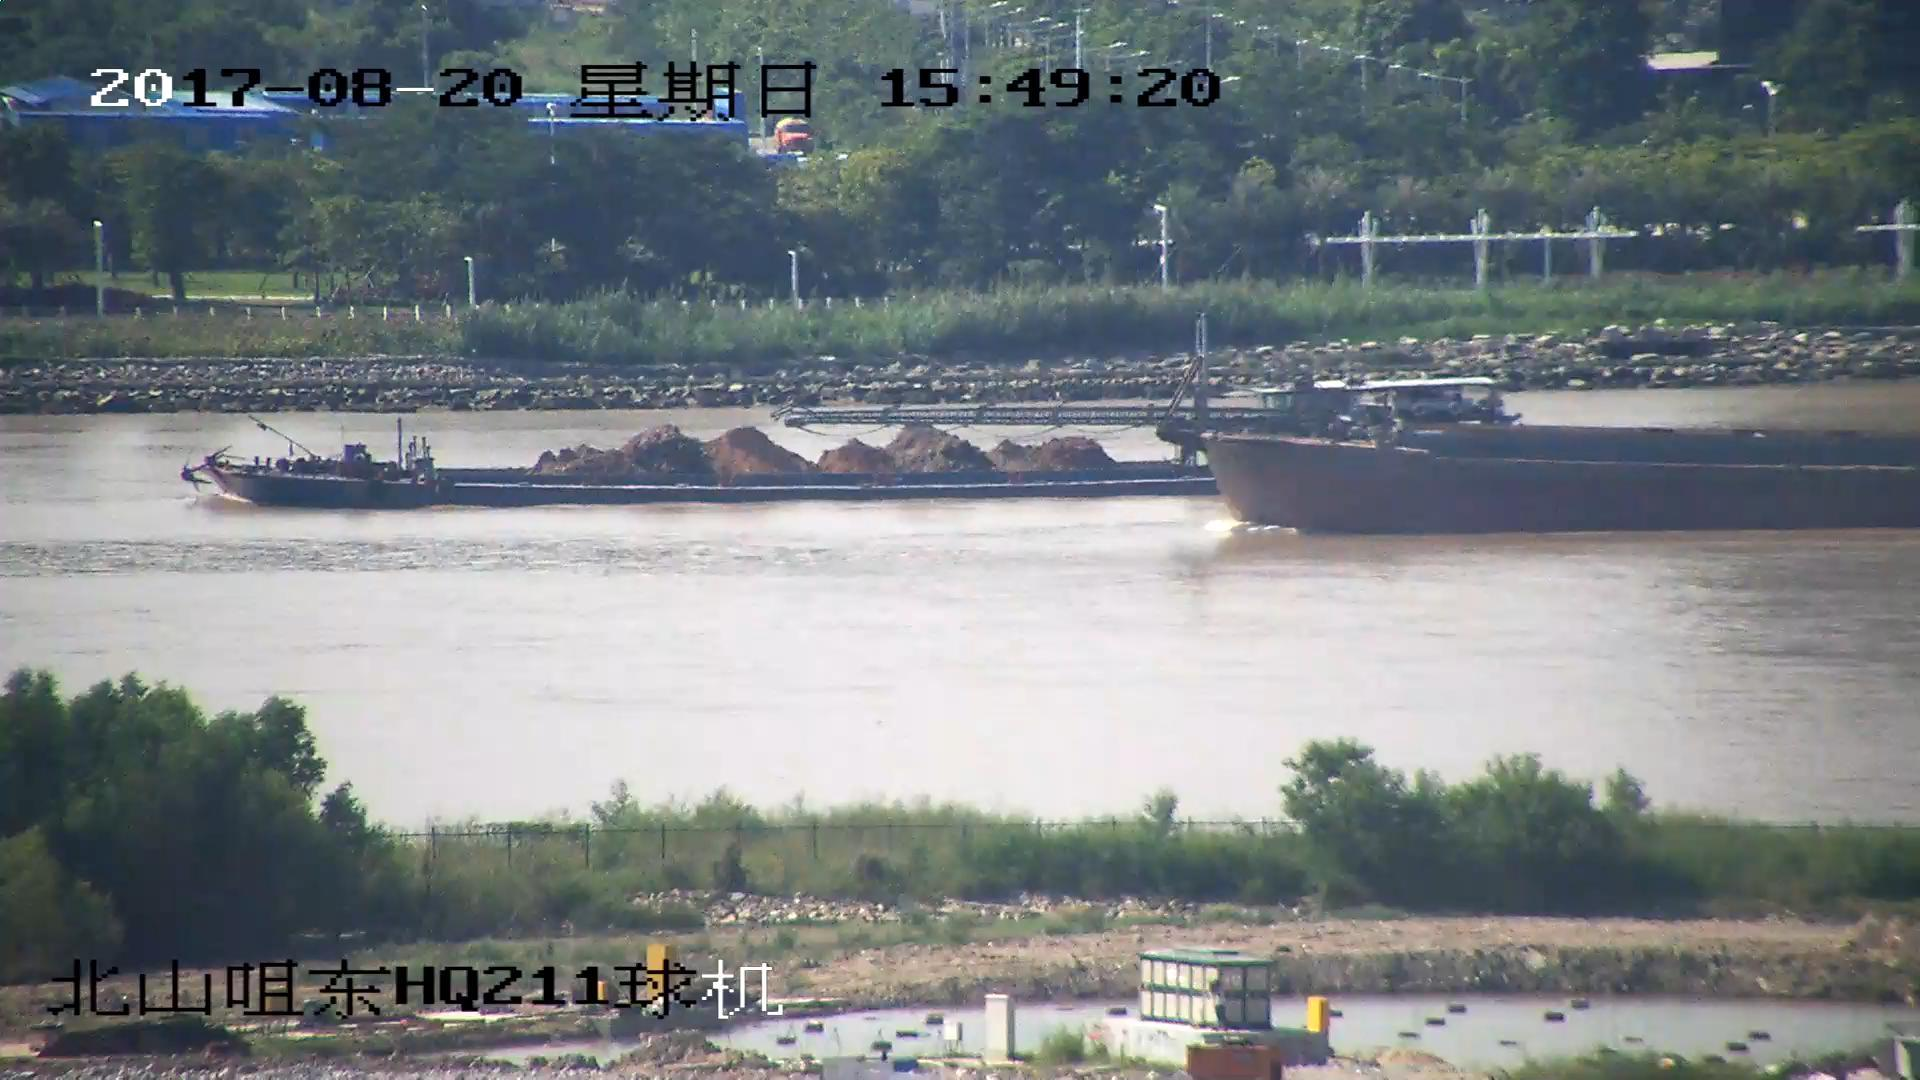Ship: (802, 328, 1920, 537), (189, 371, 1513, 517)
